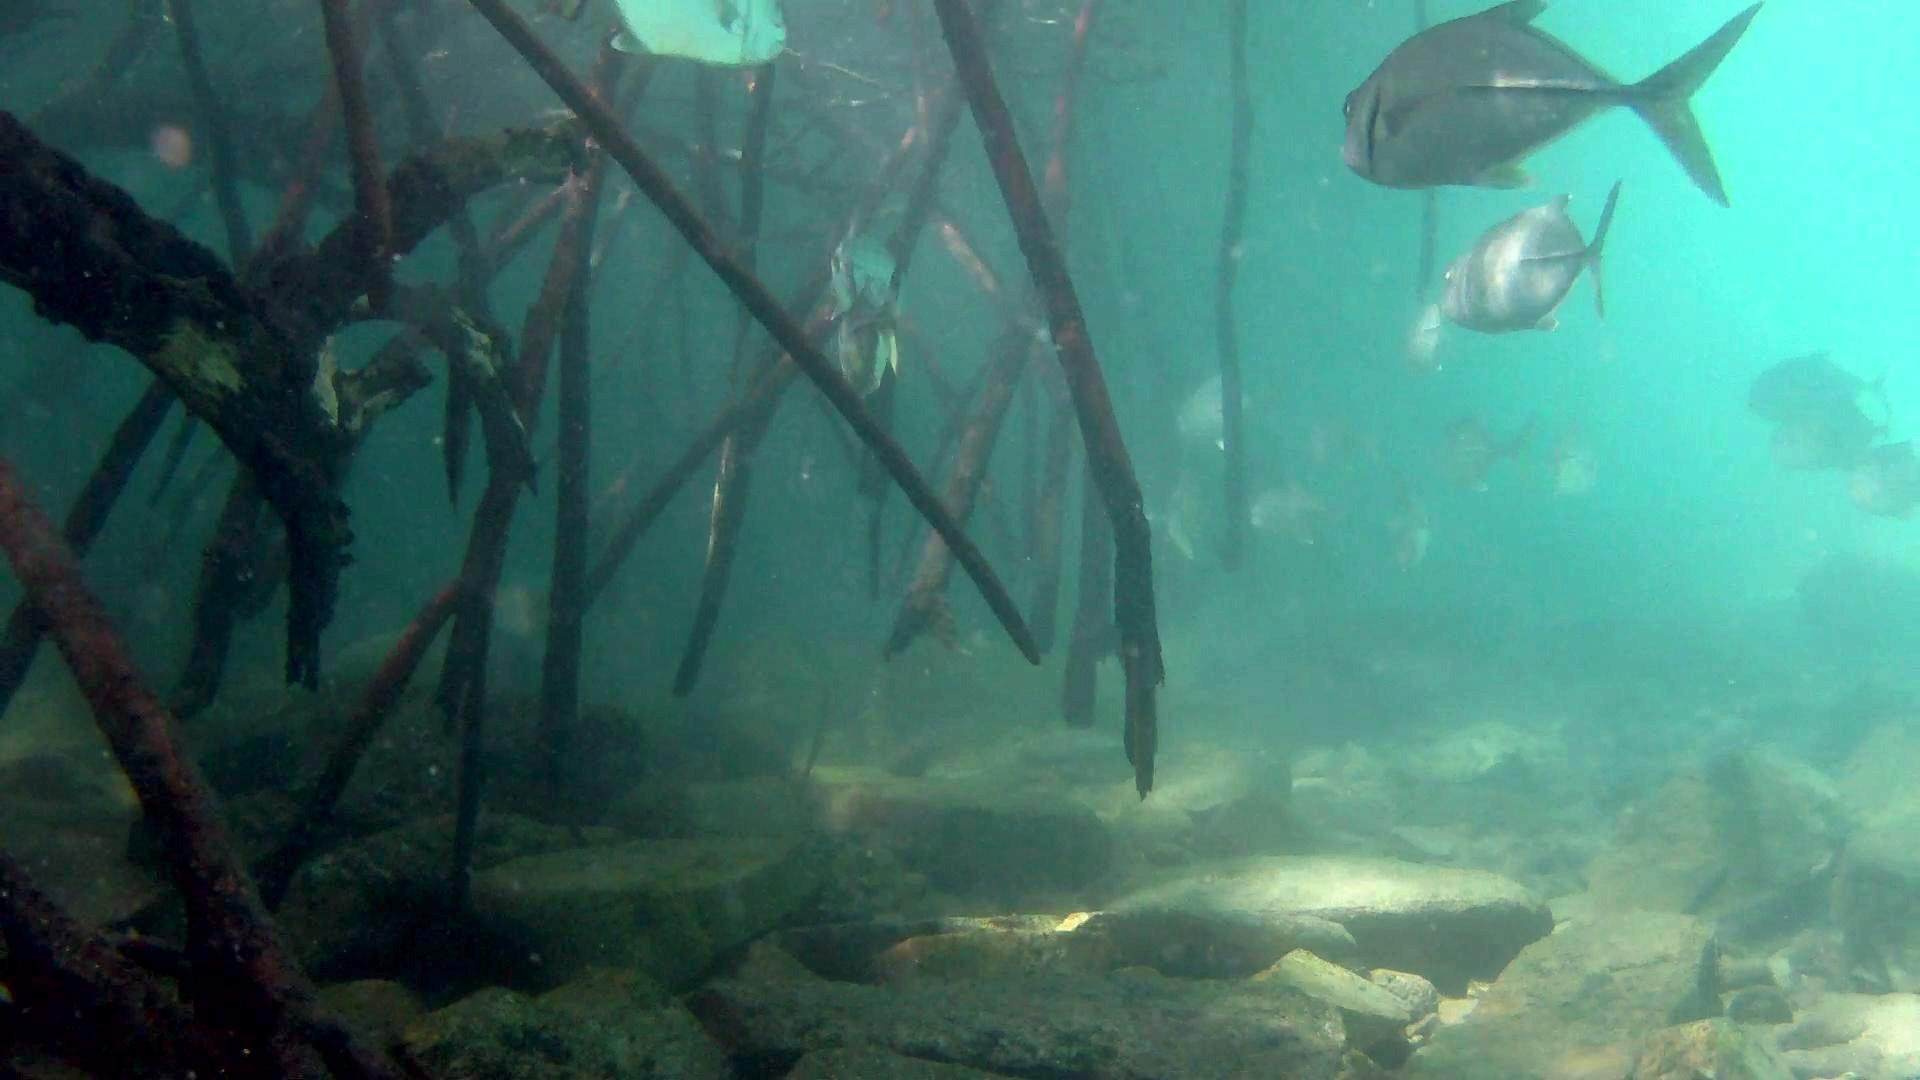caranx: (1331, 0, 1762, 213), (1418, 178, 1635, 338), (598, 0, 820, 73)
